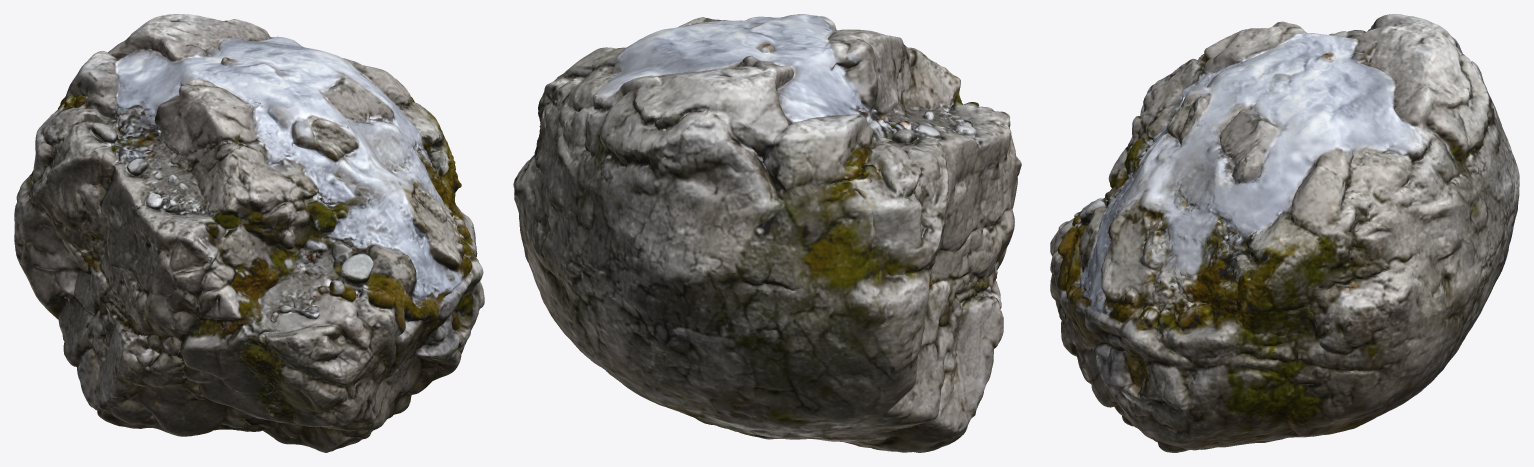
Rendered from glacial-erratic-01.glb.
3 views of the same model, side by side, from view 1: azimuth 30°, elevation 25°; view 2: azimuth 150°, elevation 25°; view 3: azimuth 270°, elevation 25° (orthographic). The views are drawn at different scales.
Parts seen in each view (by area): view 1: geometry_0; view 2: geometry_0; view 3: geometry_0.
Boxes of the visible parts, bbox=[...] form: geometry_0: bbox=[14, 14, 484, 452]; geometry_0: bbox=[513, 14, 1021, 452]; geometry_0: bbox=[1050, 14, 1519, 452].
Size of the model in its own units: 0.8 by 0.7163 by 0.8187.
Materials: 1 (1 with a texture image).
